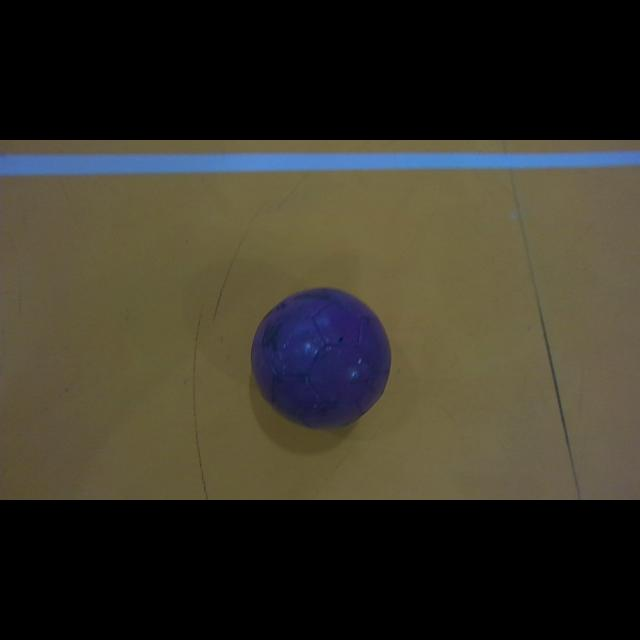P: (251, 289, 390, 429)
